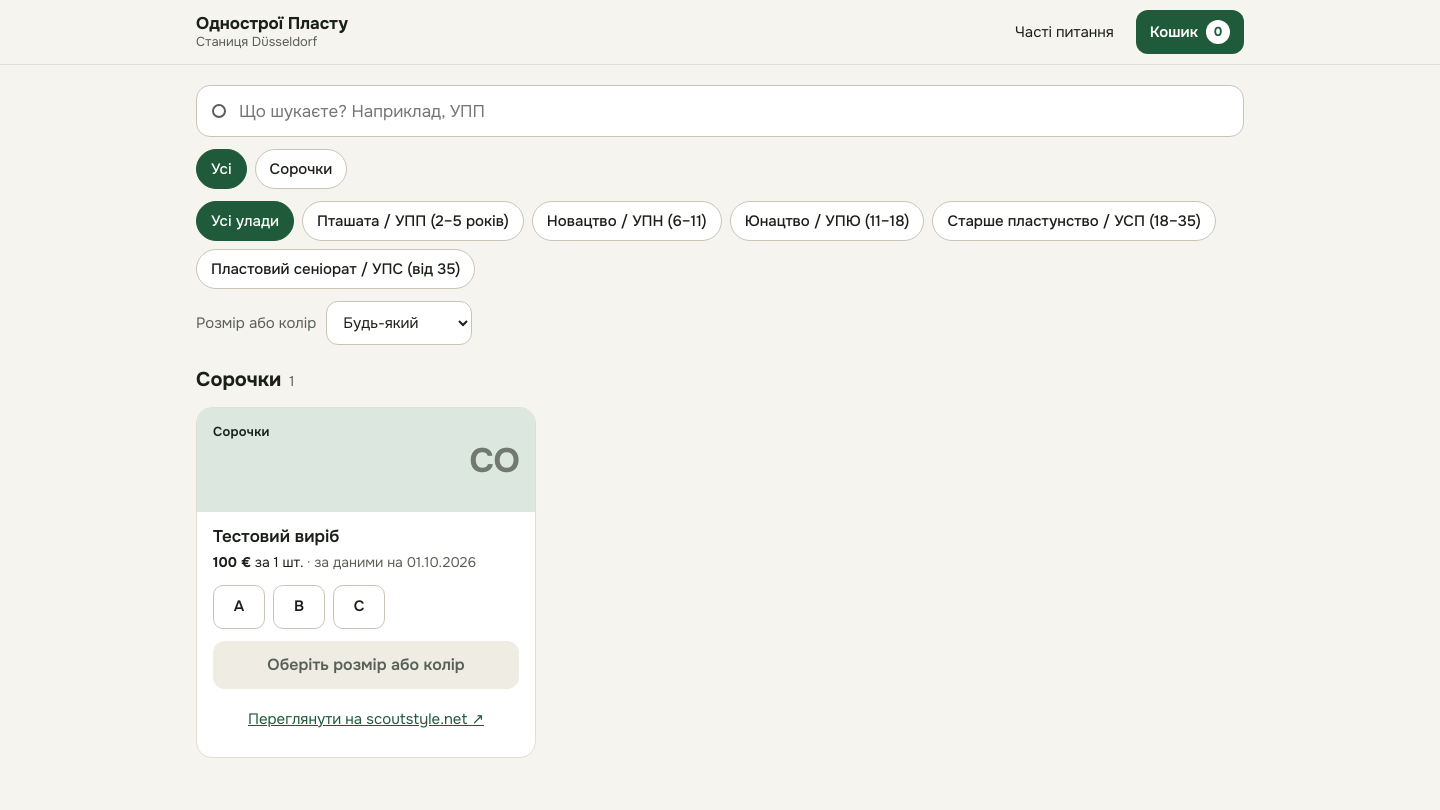
Scenario: SPEC-2026-10-19-item-quantity › AC-1, AC-2, AC-11, AC-15, AC-8, AC-7: додавання дає кількість 1, лічильник і «Прибрати», позначка ×N, окремі розміри
Click the button named "A,".
click(239, 607)  # box [213,585,265,629]
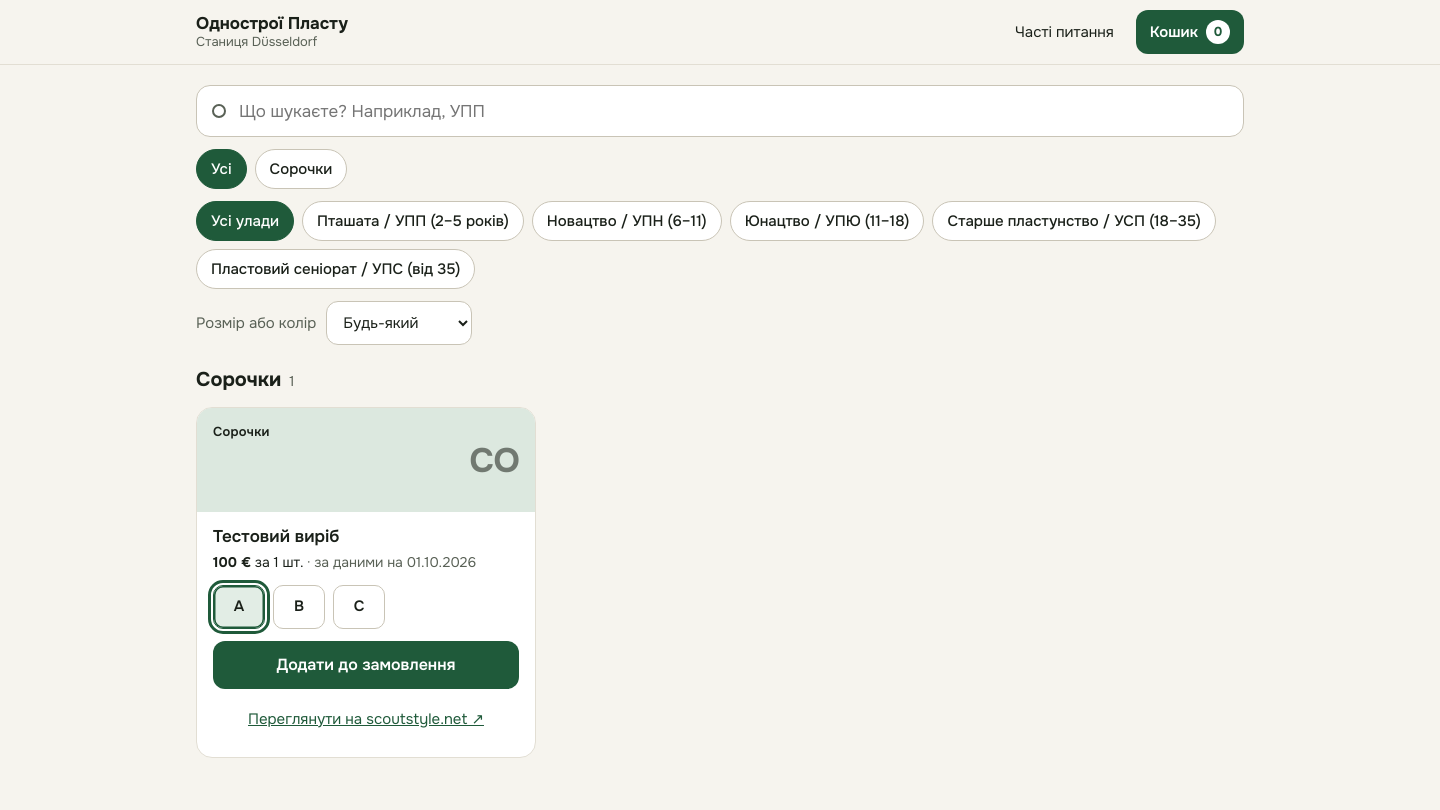
Click the button "Додати до замовлення".
click(366, 665)  # box [213,641,519,689]
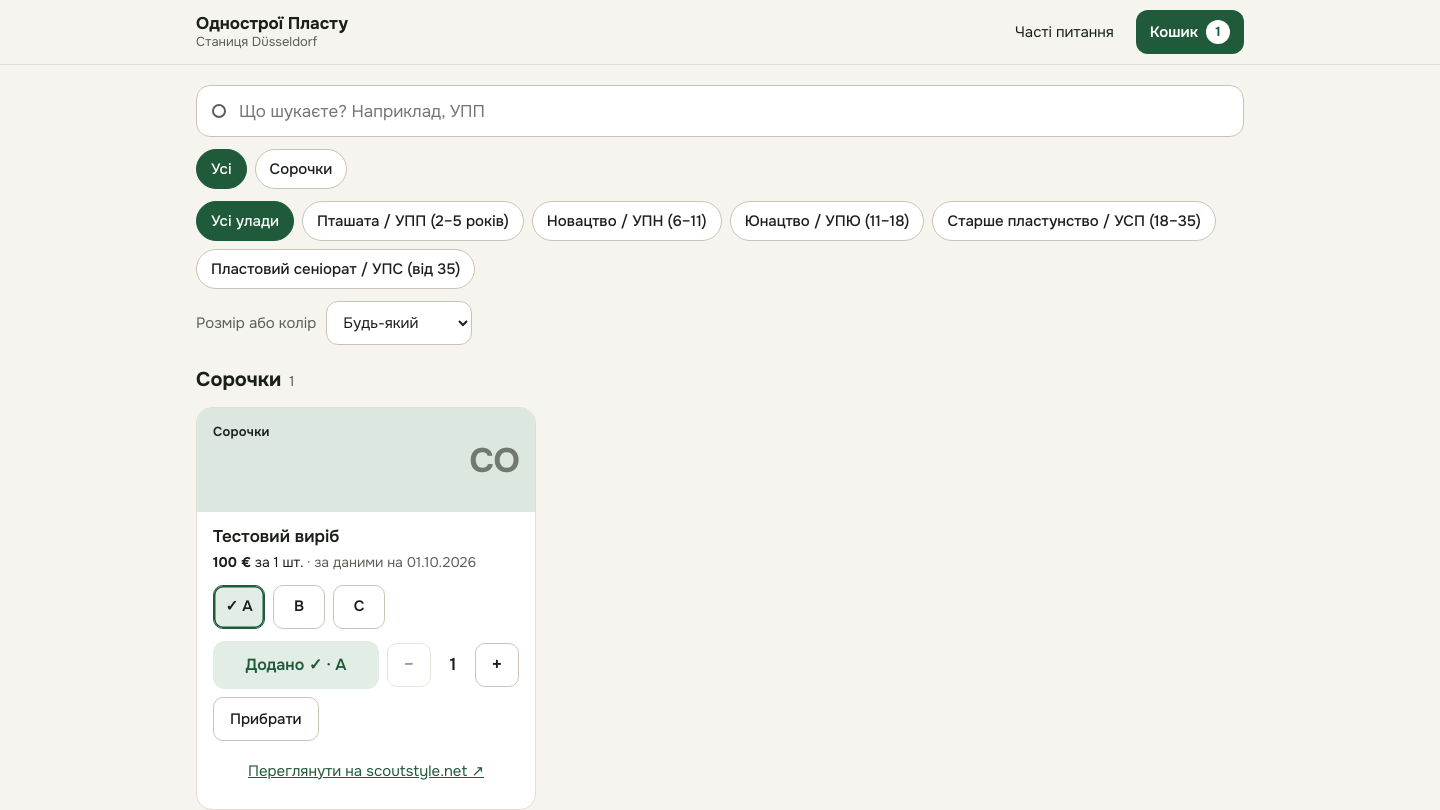
Result: the button named "Збільшити кількість: Тестовий виріб, A" is shown
Result: the button "Прибрати" is shown at [213,697,319,741]
Result: the button "Додати до замовлення" is gone
Click the button named "Збільшити кількість: Тестовий виріб, A".
click(497, 665)  # box [475,643,519,687]
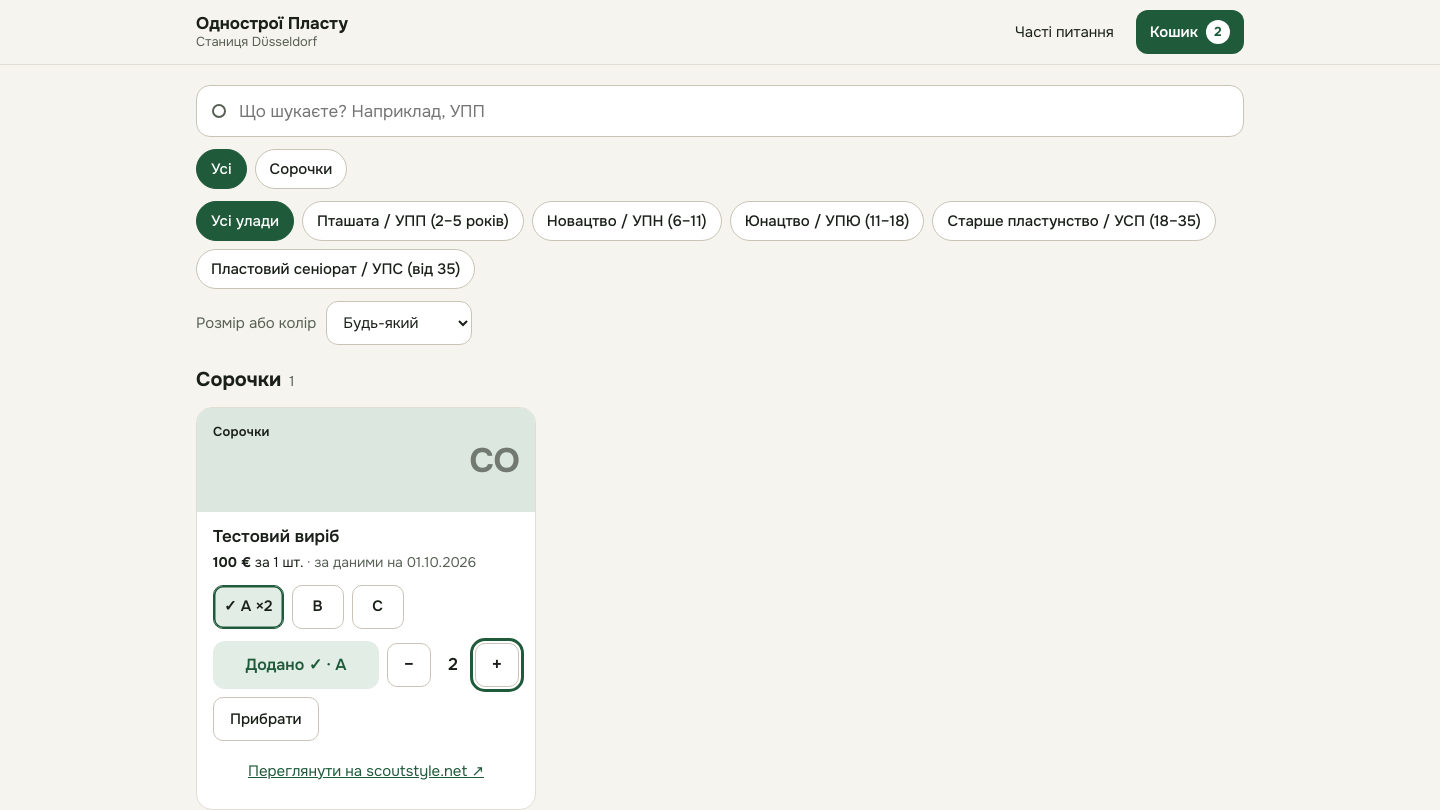
Result: the button named "A," reads "✓ A ×2" at [213,585,284,629]
Click the button named "B,".
click(318, 607)  # box [292,585,344,629]
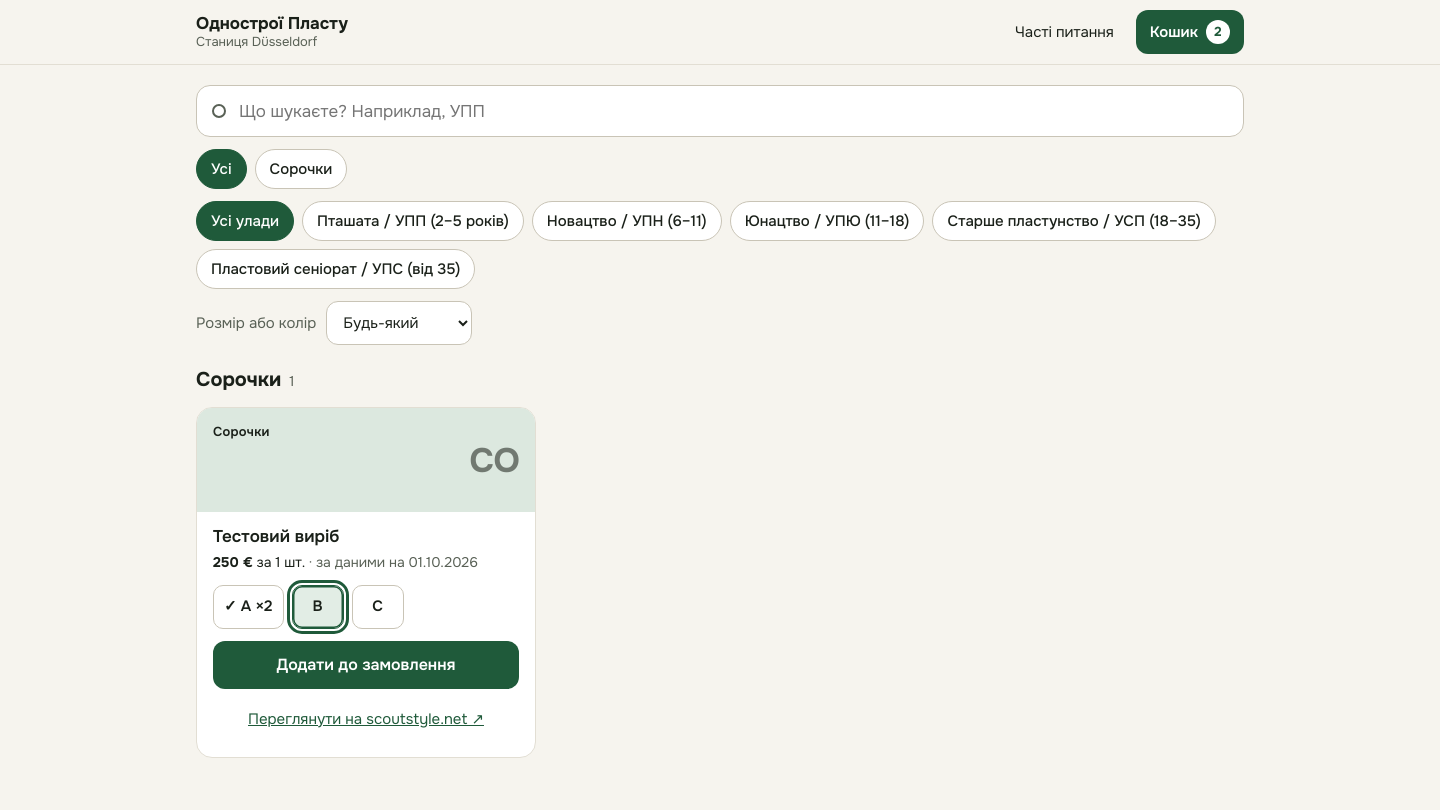
Click the button "Додати до замовлення".
click(366, 665)  # box [213,641,519,689]
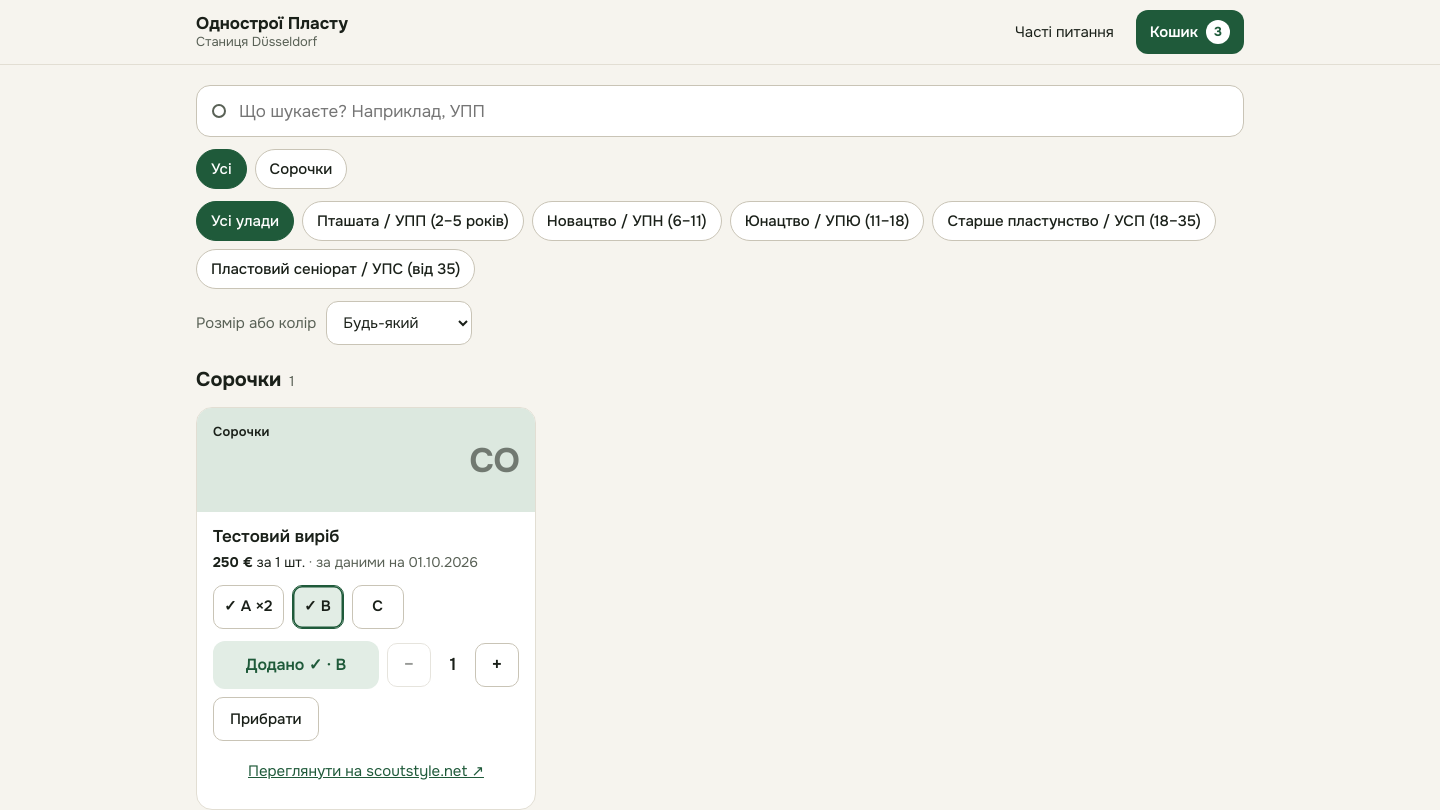
Result: the button named "A," reads "✓ A ×2" at [213,585,284,629]
Result: the button named "B," reads "✓ B" at [292,585,344,629]
Click the button "Прибрати".
click(266, 719)  # box [213,697,319,741]
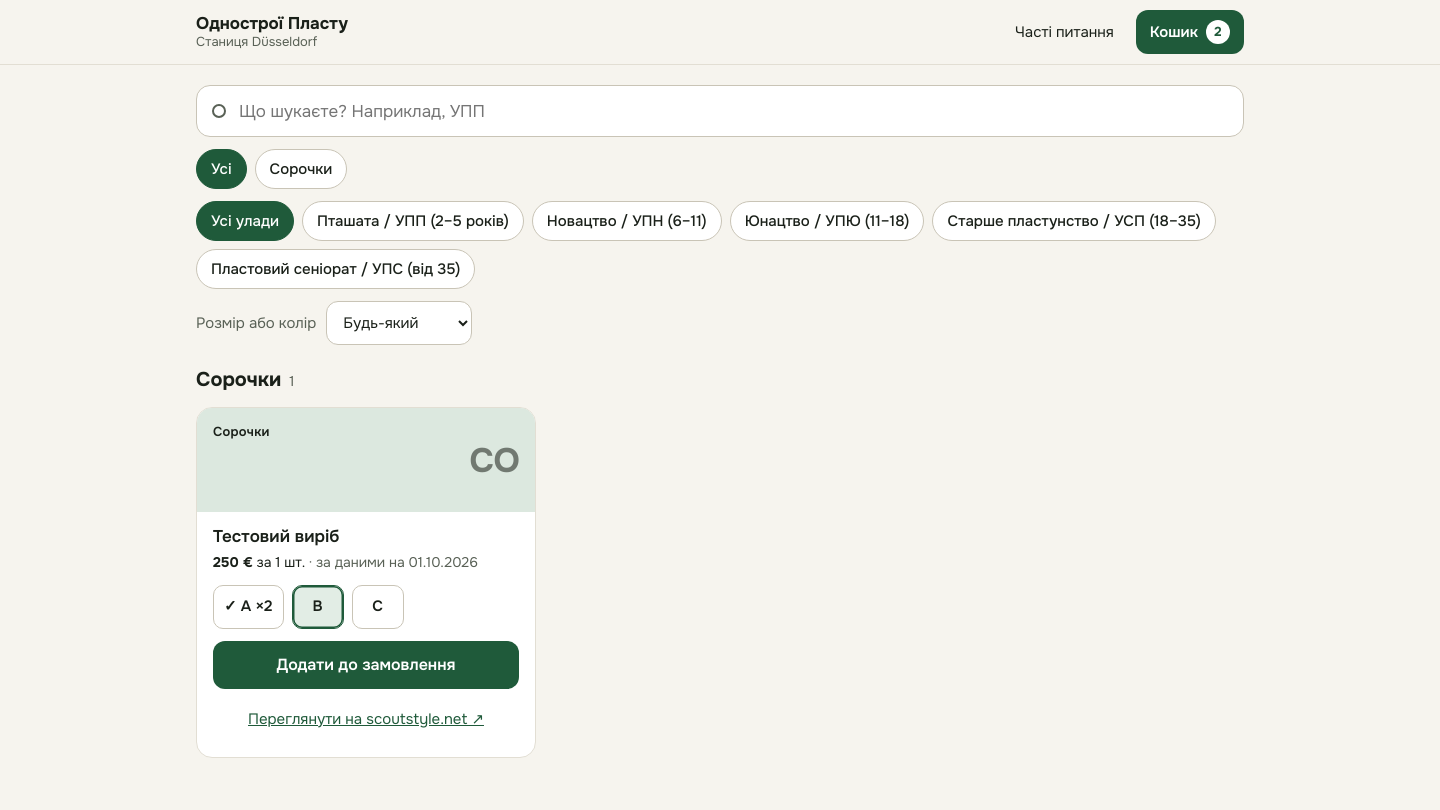
Result: the button "Додати до замовлення" is shown at [213,641,519,689]
Result: the button named "B," reads "B" at [292,585,344,629]
